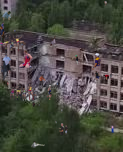Human: (71, 53, 101, 70), (10, 83, 37, 101), (0, 34, 27, 52), (0, 53, 15, 81), (16, 50, 33, 68), (47, 34, 58, 46), (58, 123, 68, 135), (39, 75, 46, 89), (103, 73, 117, 80), (31, 141, 45, 148), (2, 11, 11, 21), (93, 71, 102, 81), (0, 26, 5, 43), (47, 85, 52, 100), (0, 22, 6, 33), (10, 43, 15, 51), (32, 102, 40, 107), (111, 125, 115, 133), (104, 1, 107, 6), (13, 30, 16, 33), (61, 109, 63, 113), (56, 82, 58, 86), (7, 82, 9, 86), (55, 121, 57, 124), (19, 130, 22, 132), (59, 82, 60, 86), (120, 34, 121, 38)
